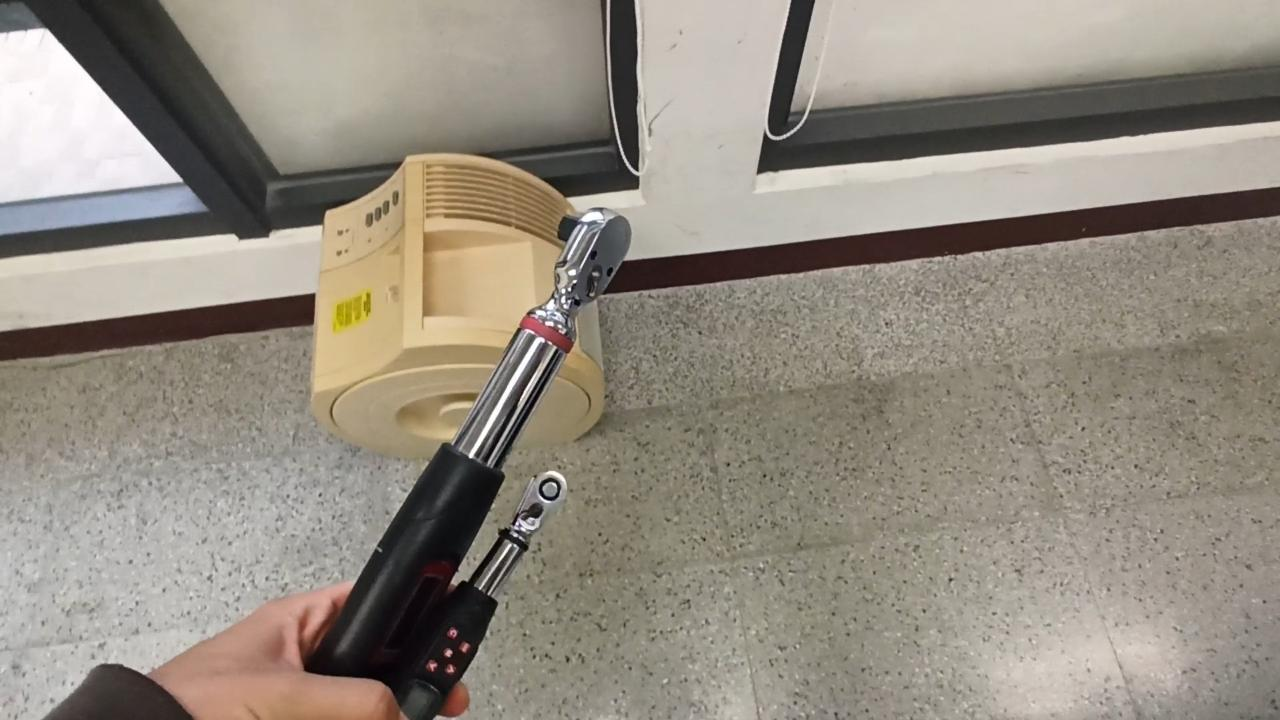Tool: (546, 200, 626, 323), (512, 464, 566, 542)
